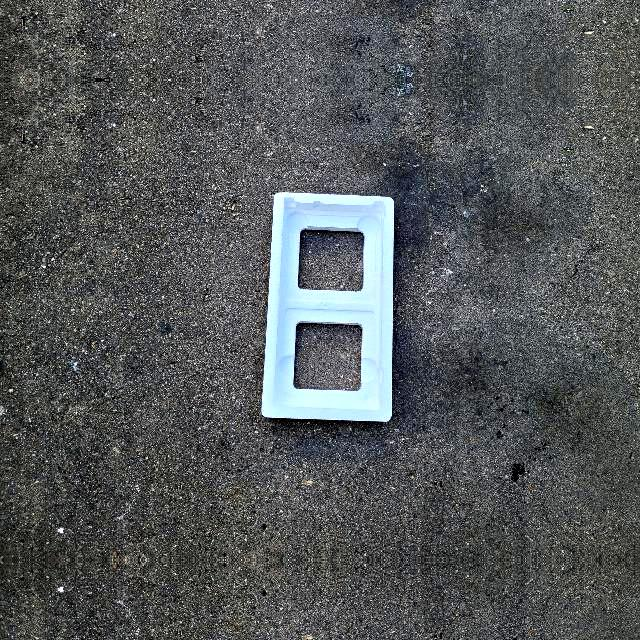Styrofoam: (259, 191, 395, 421), (262, 192, 394, 422)
